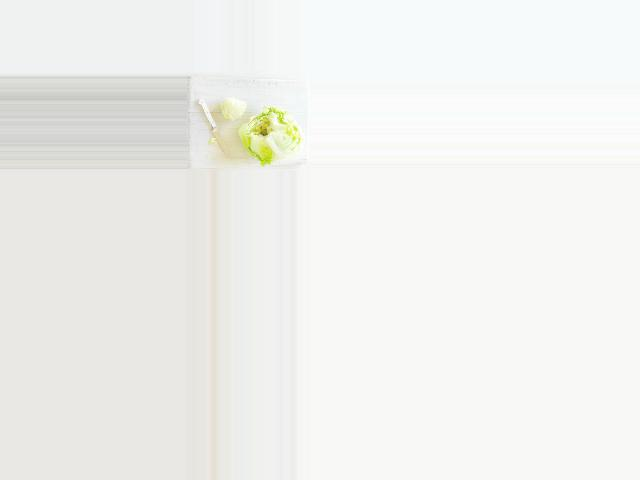lettuce: (244, 106, 307, 163)
